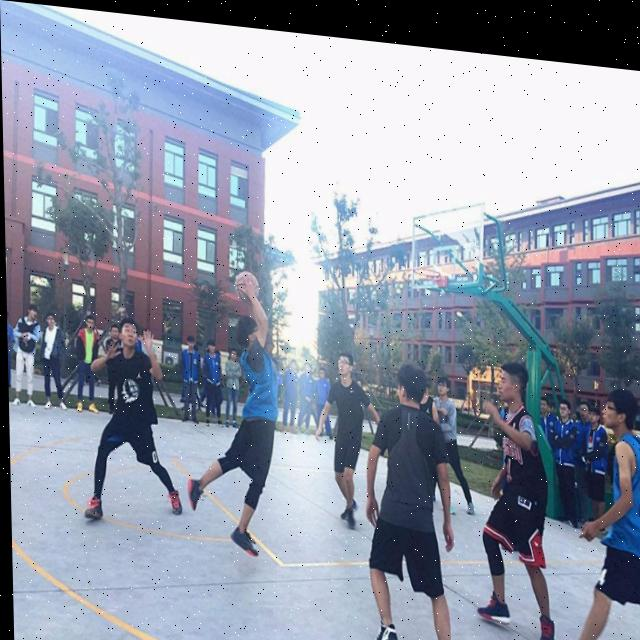basketball: (234, 268, 260, 305)
hoop: (414, 266, 442, 293)
